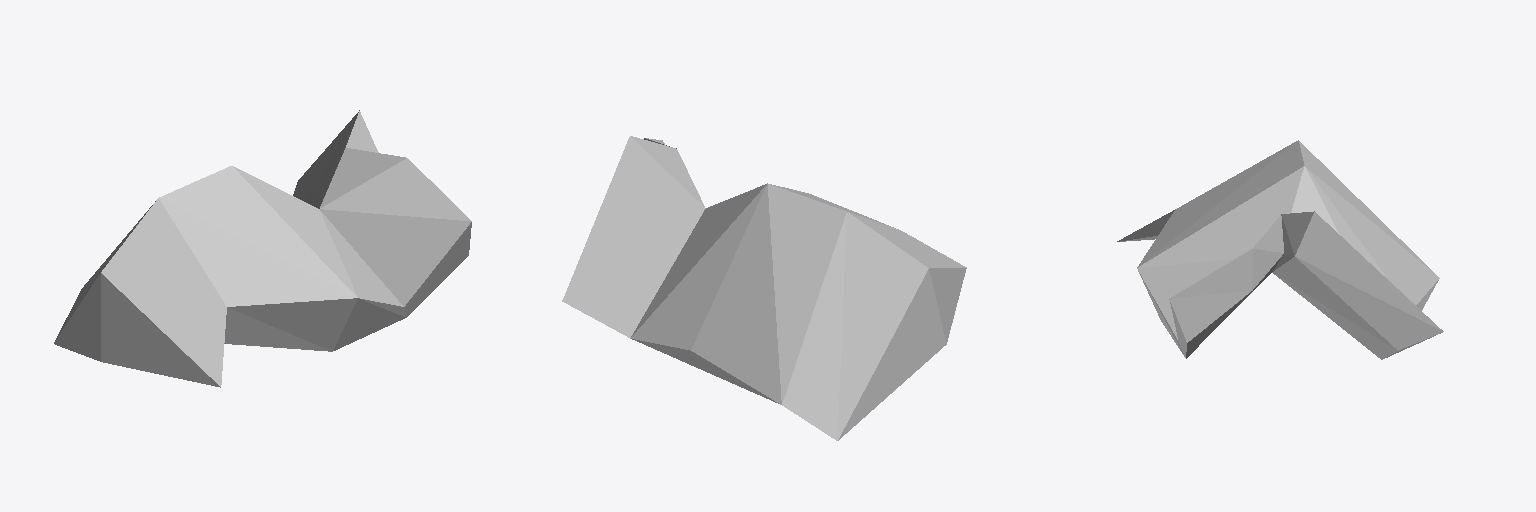
File: uldamanpotbroken03.obj
3 renders of one model, left to right at view 1: azimuth 30°, elevation 25°; view 2: azimuth 150°, elevation 25°; view 3: azimuth 270°, elevation 25°, orthographic.
Visible parts, largest first — view 1: uldamanpotbroken03; view 2: uldamanpotbroken03; view 3: uldamanpotbroken03.
Boxes of the visible parts, x1=… form: uldamanpotbroken03: x1=54, y1=110, x2=471, y2=387; uldamanpotbroken03: x1=562, y1=136, x2=966, y2=440; uldamanpotbroken03: x1=1117, y1=140, x2=1443, y2=359.
Size of the model in its own units: 1.64 by 0.974 by 1.4.